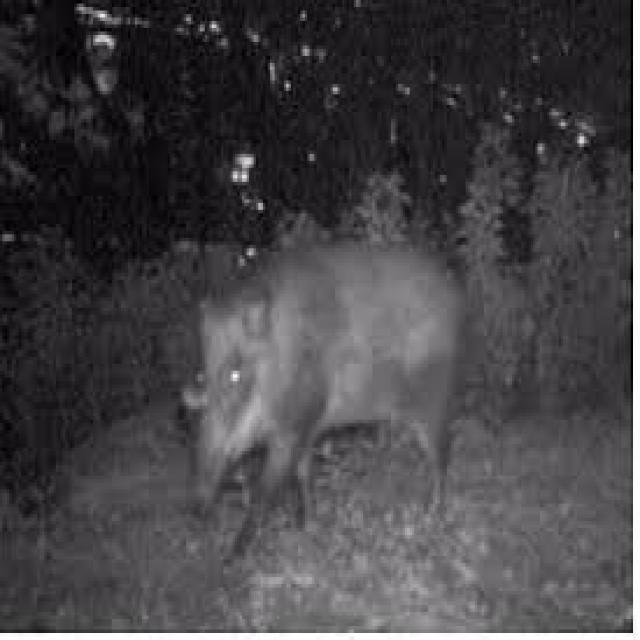boar: (138, 184, 492, 598)
